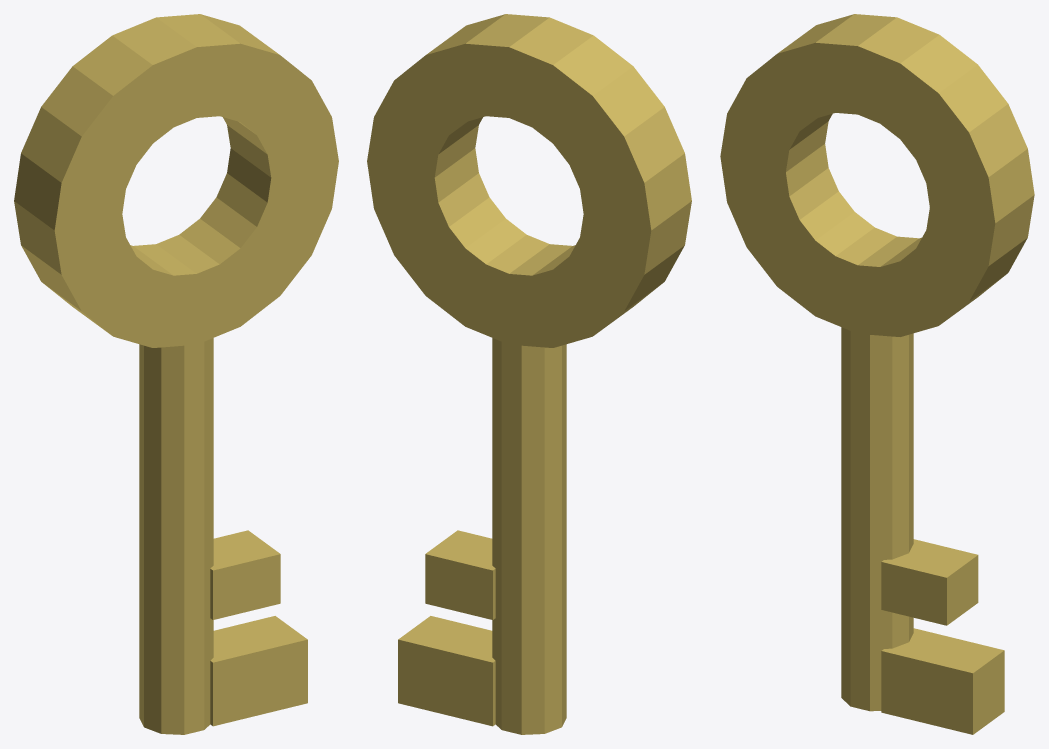
File: key.glb
The picture shows the model from 3 angles, left to right: view 1: azimuth 30°, elevation 25°; view 2: azimuth 150°, elevation 25°; view 3: azimuth 330°, elevation 25°; orthographic projection. The views are drawn at different scales.
Parts seen in each view (by area): view 1: key; view 2: key; view 3: key.
Boxes of the visible parts, x1,y1,x2,y2 form: key: (14,14,338,734); key: (367,14,691,734); key: (720,14,1034,734).
Bounding box in the file's own units: 0.21 × 0.485 × 0.052.
